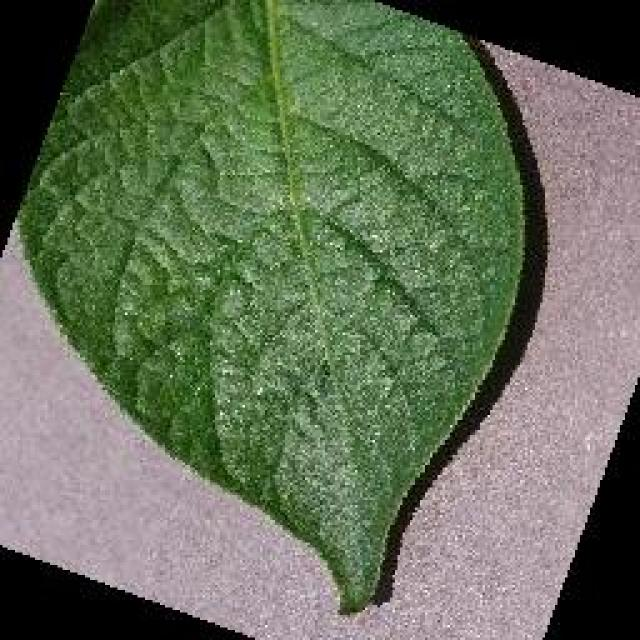Potato___healthy: (15, 0, 531, 615)
